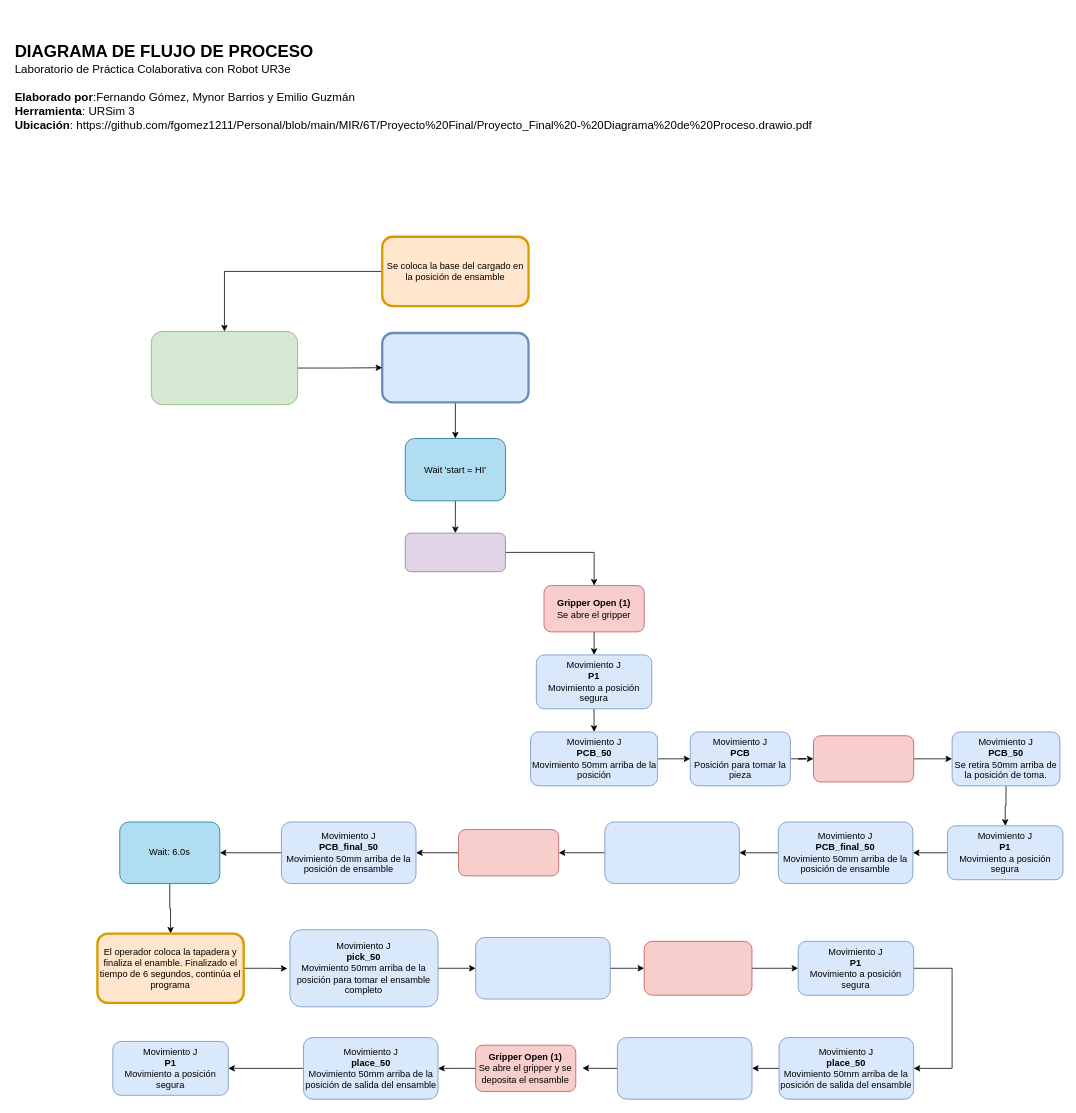
Some shapes in this 1076 by 1113 pixel diagram are drawn without their labels. Each missing label, with the box of its shape:
Definición de Puntos Posición y Orientación: (151, 331, 298, 405)
Ejecución del Proceso Robot Program: (381, 331, 529, 403)
Gripper Close (1) Se cierra el gripper y se toma el ensamble: (643, 941, 752, 995)
Gripper Close (1) Se cierra el gripper y se toma la pieza: (813, 735, 914, 782)
Gripper Open (1) Se abre el gripper y se deposita la pieza: (458, 829, 559, 876)
MoveJ: (404, 532, 505, 572)
Movimiento J PCB_final Posición para colocar la PCB en el encajuelado: (604, 821, 739, 884)
Movimiento J pick Posición para tomar el ensamble final: (475, 937, 610, 999)
Movimiento J place Posición de salida del ensamble final: (617, 1037, 752, 1099)
